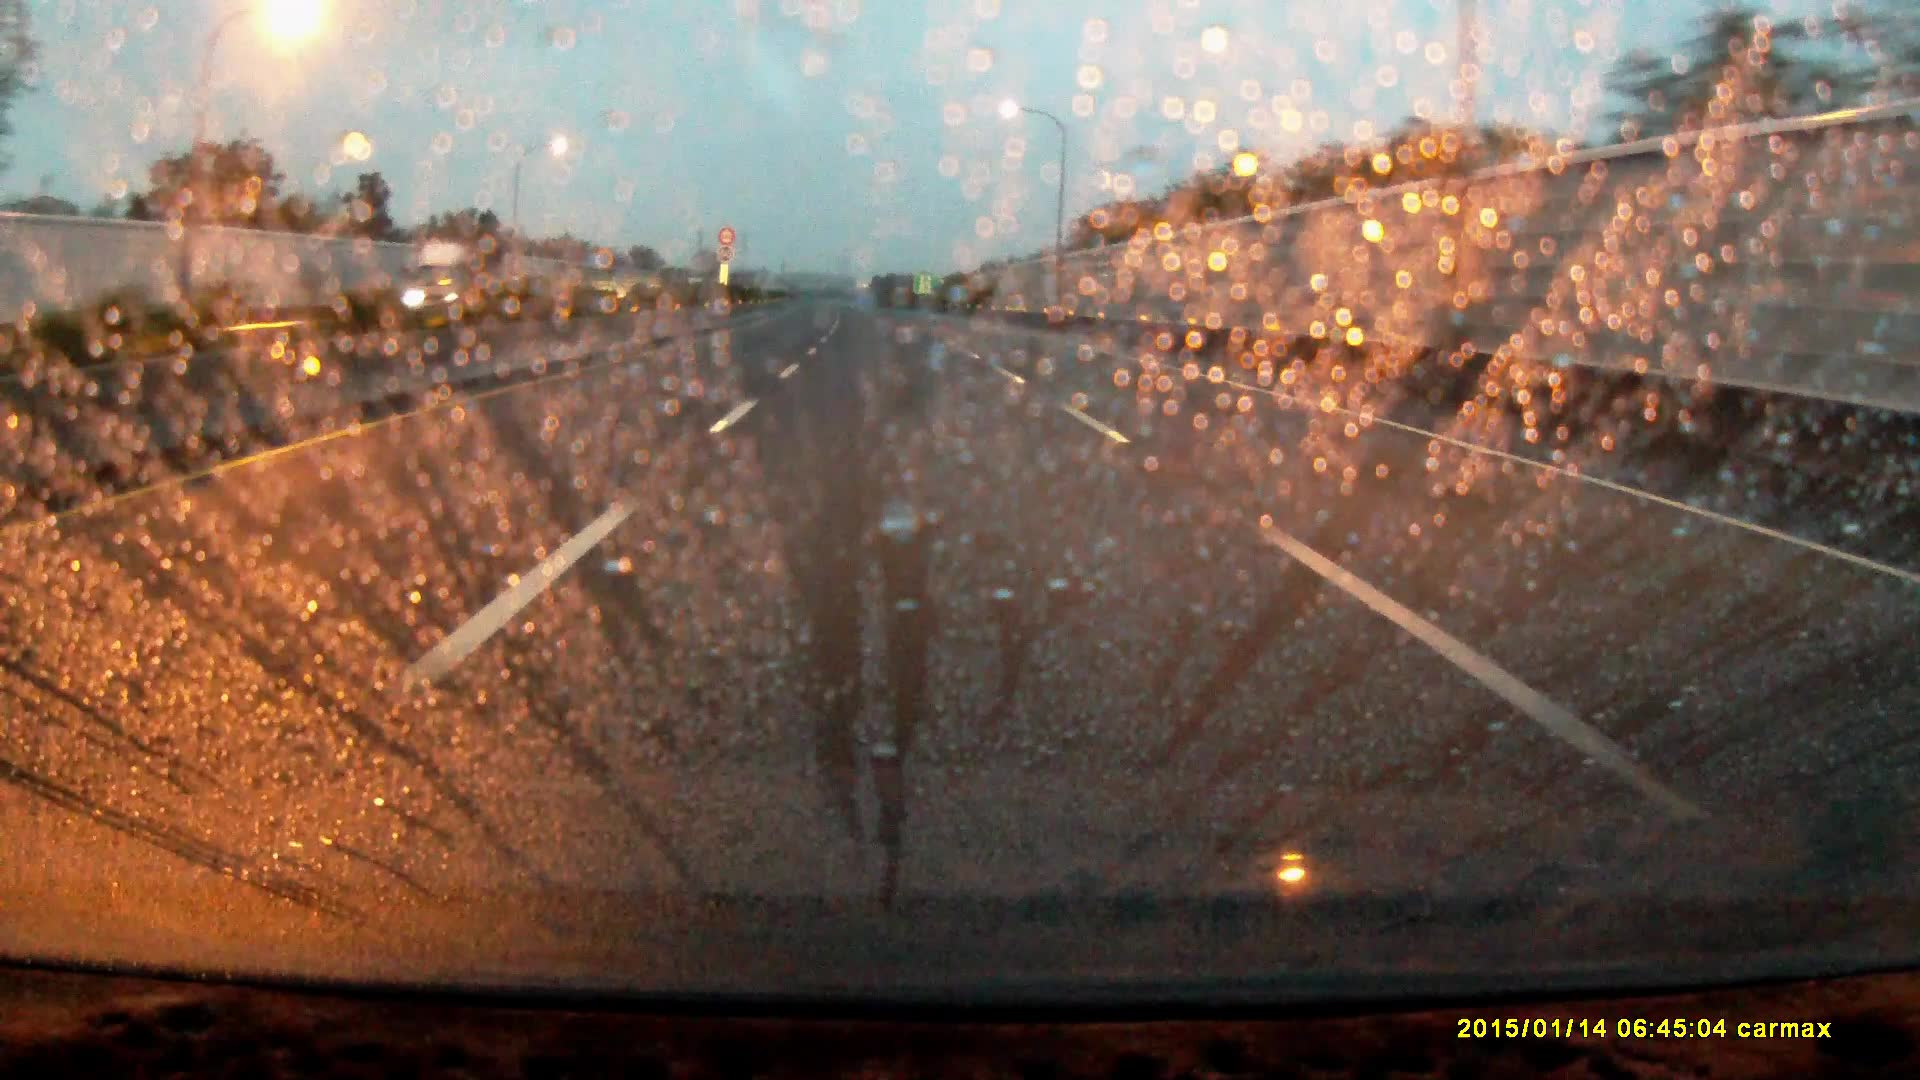vehicle: (400, 240, 512, 316)
